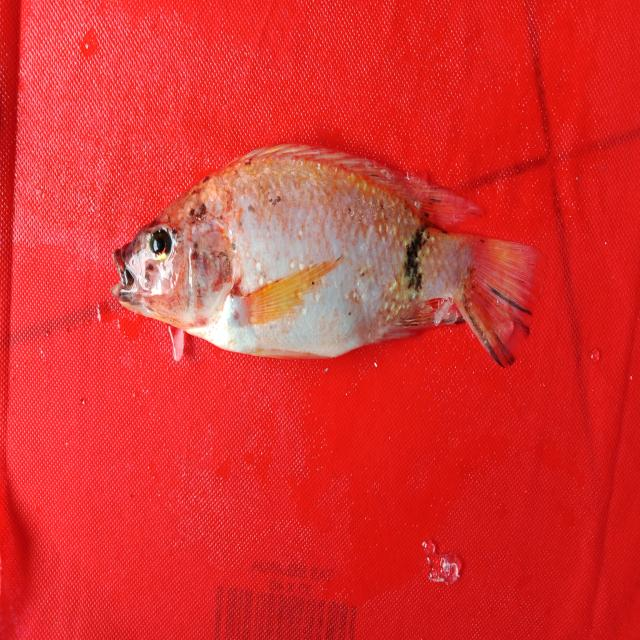ikan: (96, 128, 554, 391)
